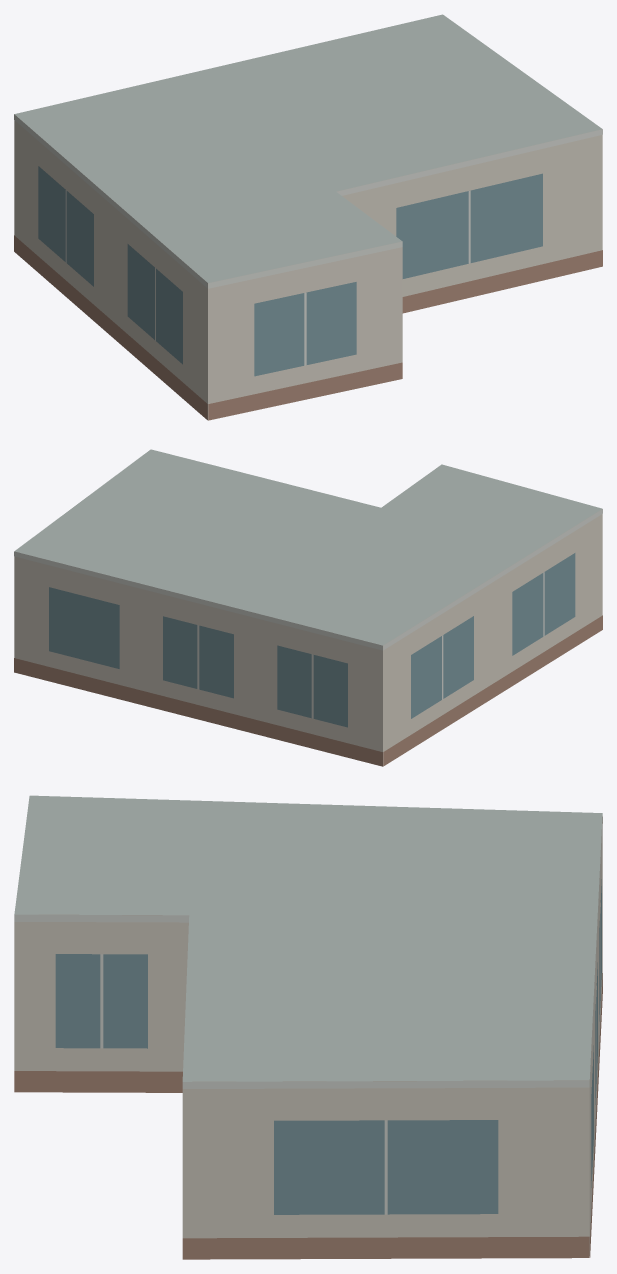
File: survey-upis-32767083.glb
3 views of the same model, one above another, from view 1: azimuth 30°, elevation 25°; view 2: azimuth 150°, elevation 25°; view 3: azimuth 270°, elevation 25° (orthographic). The views are drawn at different scales.
Parts seen in each view (by area): view 1: survey-upis-32767083.tmp; view 2: survey-upis-32767083.tmp; view 3: survey-upis-32767083.tmp.
Boxes of the visible parts, x1,y1,x2,y2 form: survey-upis-32767083.tmp: [14, 14, 602, 420]; survey-upis-32767083.tmp: [14, 449, 602, 766]; survey-upis-32767083.tmp: [14, 795, 602, 1259].
Size of the model in its own units: 10.56 by 3.05 by 9.17.
